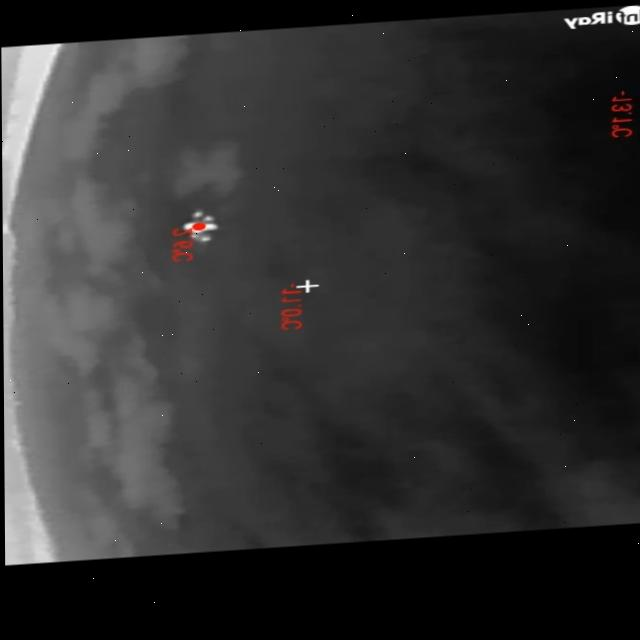drone: (170, 211, 223, 246)
